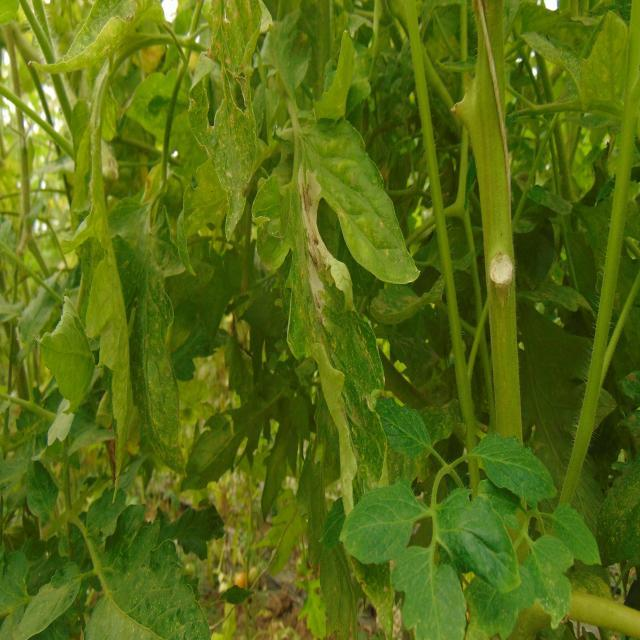Tuta absoluta: (292, 162, 358, 326)
